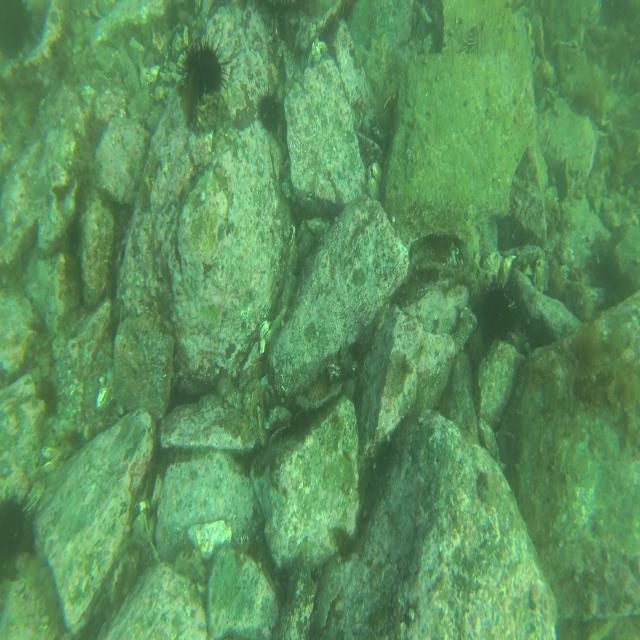echinus: (0, 484, 39, 568), (176, 36, 230, 95), (477, 278, 518, 346), (0, 0, 38, 63), (256, 80, 286, 142), (461, 18, 495, 60)
